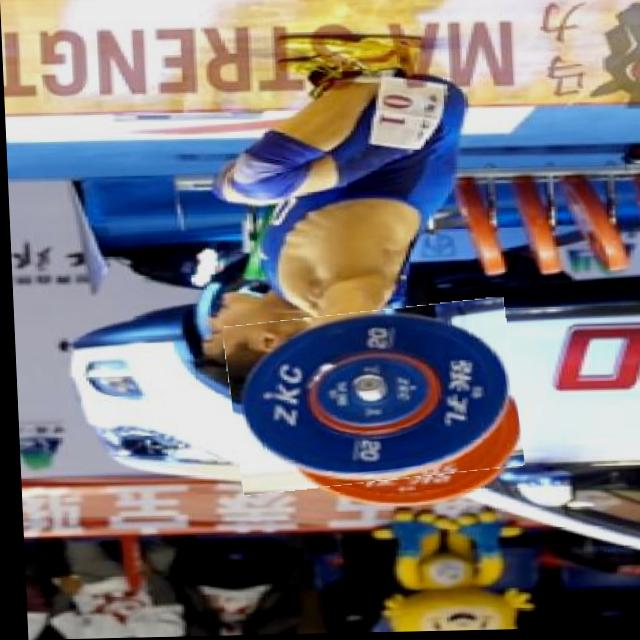barbell: (223, 306, 519, 492)
